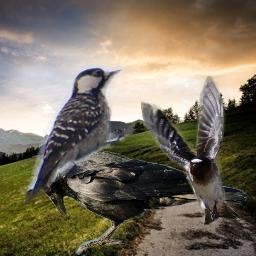Crow: (39, 149, 249, 255)
Swallow: (141, 76, 242, 225)
Woodpecker: (16, 59, 133, 210)
